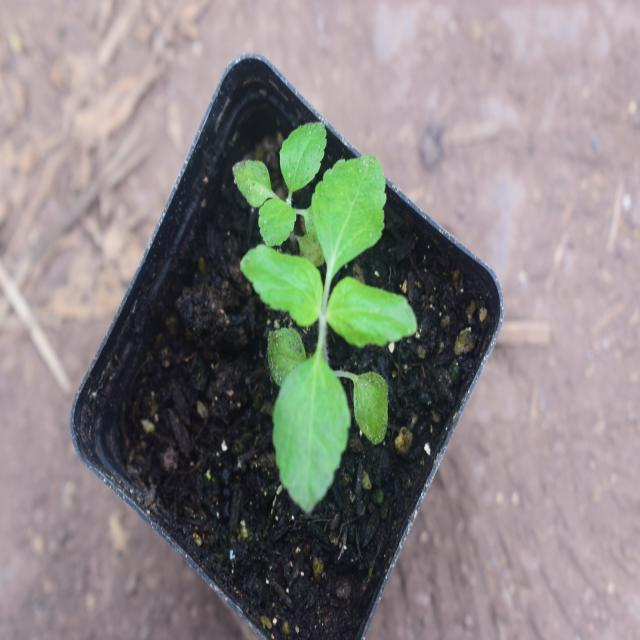billygoat_weed: (267, 144, 417, 488)
